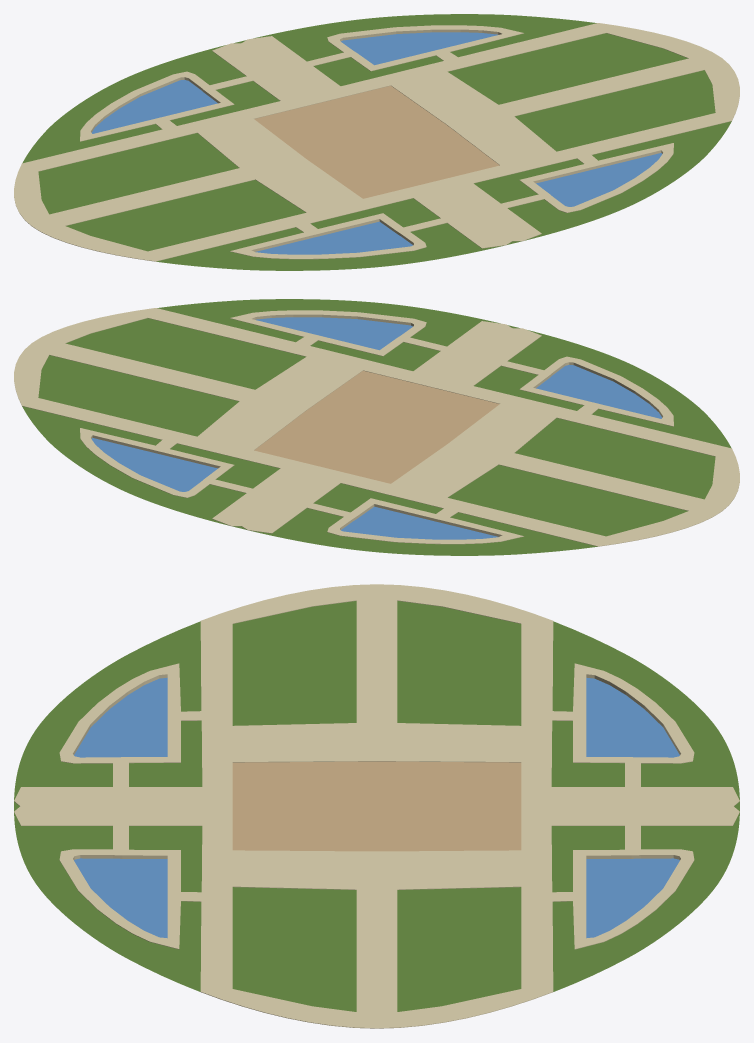
Rendered from Ground_v01.fbx.
3 renders of one model, top to bottom at view 1: azimuth 30°, elevation 25°; view 2: azimuth 150°, elevation 25°; view 3: azimuth 270°, elevation 25°, orthographic. The views are drawn at different scales.
Parts seen in each view (by area): view 1: Ground; view 2: Ground; view 3: Ground.
Boxes of the visible parts, left/top/right/bottom form: Ground: left=14, top=14, right=739, bottom=270; Ground: left=14, top=299, right=739, bottom=555; Ground: left=14, top=584, right=739, bottom=1028.
Bounding box in the file's own units: 10636 × 39.16 × 7350.
1 material, 1 textured.
